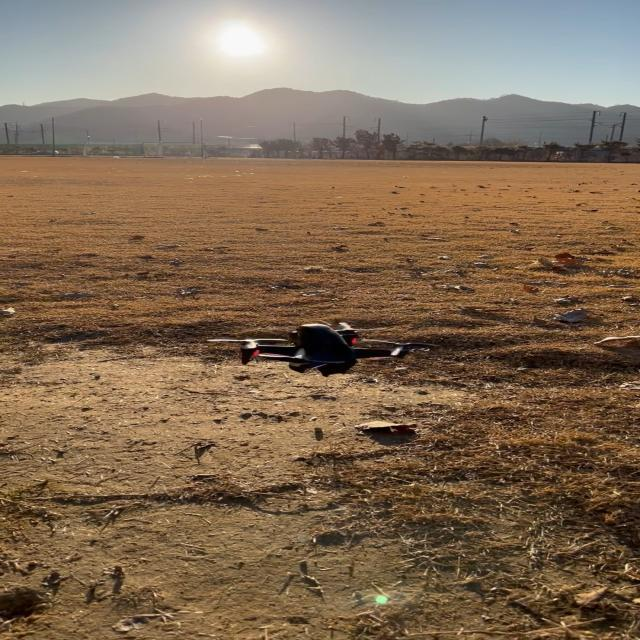drone: (205, 320, 438, 378)
